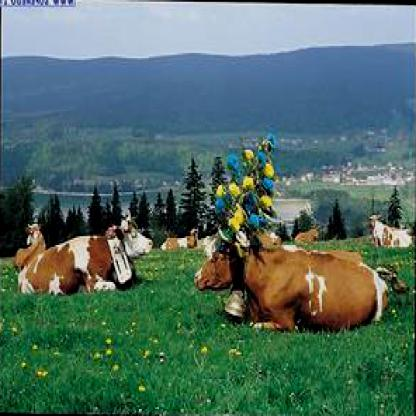cow: (191, 226, 388, 328), (24, 210, 153, 294), (368, 213, 413, 252)
